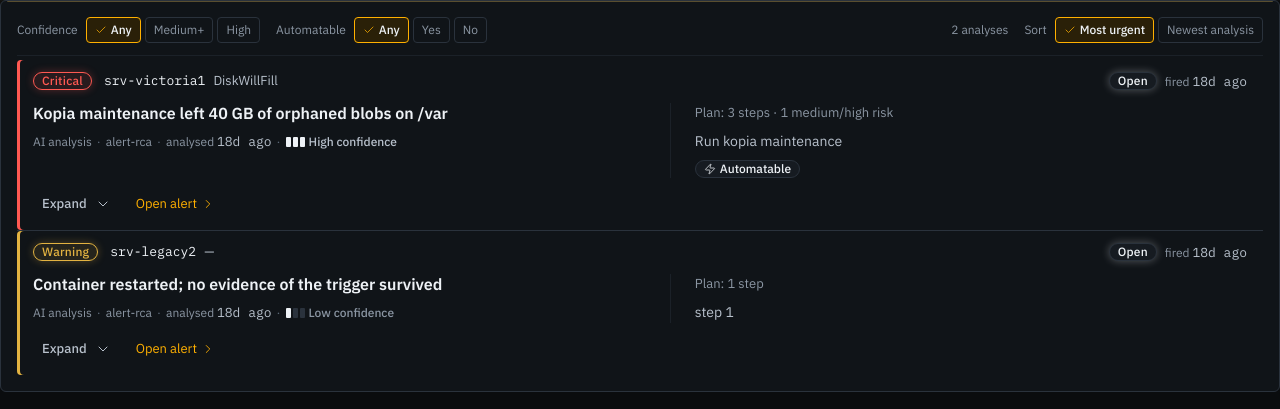
Test: AnalysesView › filters › narrows by a confidence threshold, as a radio group with a readable state
The image size is (1280, 409).
Expected: the text "2 analyses" is shown, [951,21,1008,39]
Click the radio button labelled "Medium+" at (179,30), box [145,17,214,43]
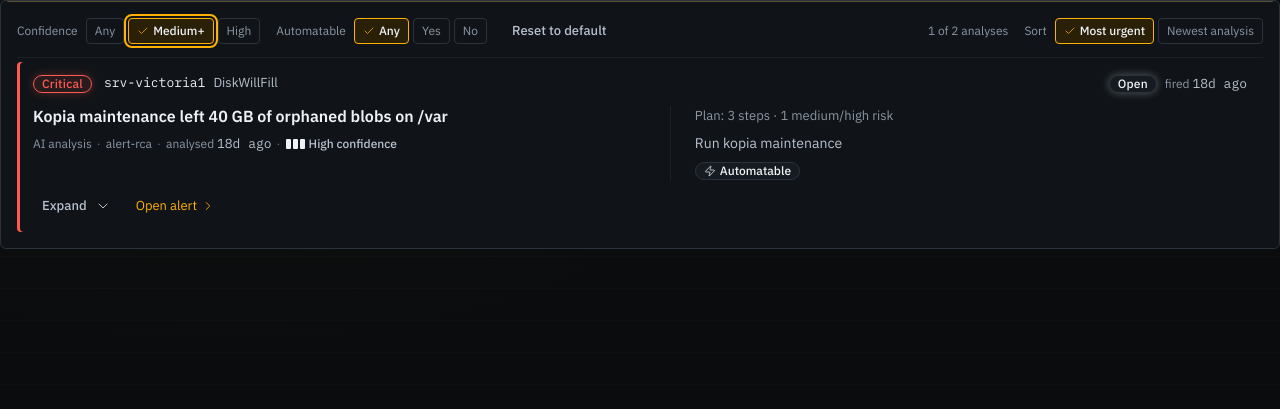
Expected: the text "1 of 2 analyses" is shown, [928,22,1008,40]
